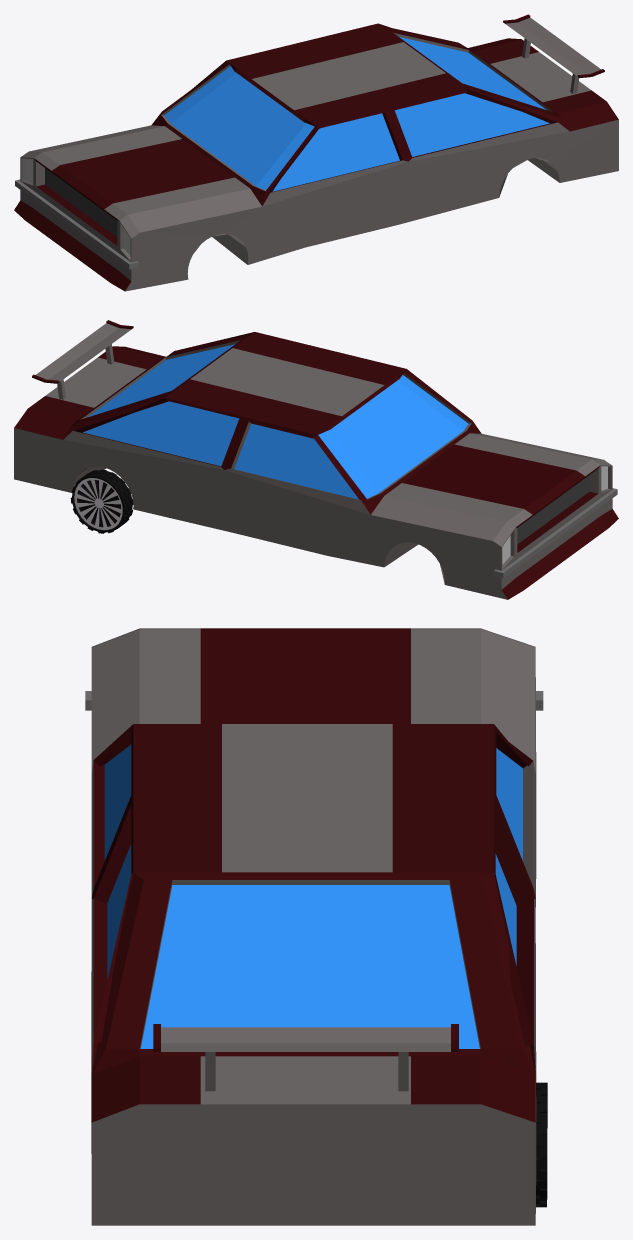
File: backR.obj
3 renders of one model, top to bottom at view 1: azimuth 30°, elevation 25°; view 2: azimuth 150°, elevation 25°; view 3: azimuth 270°, elevation 25°, orthographic. The views are drawn at different scales.
Visible parts, largest first — view 1: Cube, Plane.001, Cube.001; view 2: Cube, Cylinder.002, Plane.001, Cube.001; view 3: Cube, Plane.001, Cylinder.002.
Part boxes in pixels (x1,y1,x2,y2): Cube: (14, 23, 618, 291); Plane.001: (503, 14, 604, 78); Cube.001: (15, 179, 138, 269); Cube: (14, 332, 618, 599); Cylinder.002: (70, 469, 133, 533); Plane.001: (32, 320, 133, 383); Cube.001: (493, 488, 617, 577); Cube: (91, 628, 536, 1225); Plane.001: (153, 1024, 458, 1051); Cylinder.002: (536, 1082, 547, 1207).
Bounding box in the file's own units: 6.5 × 1.73 × 2.62.
